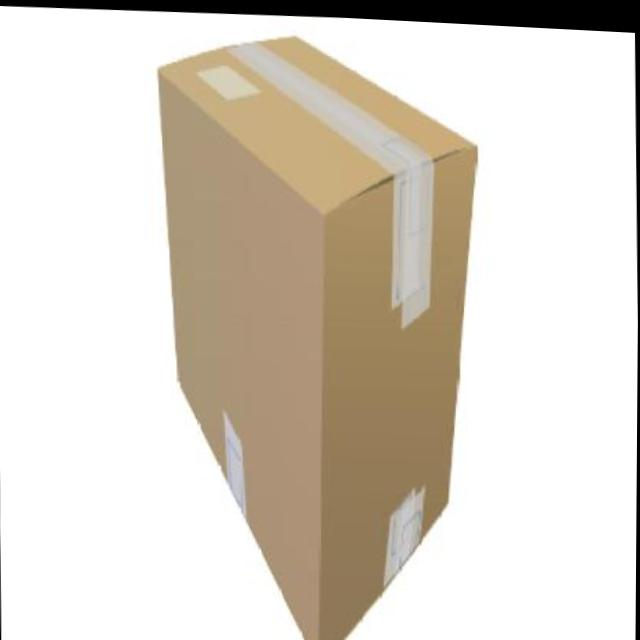box: (144, 22, 486, 640)
